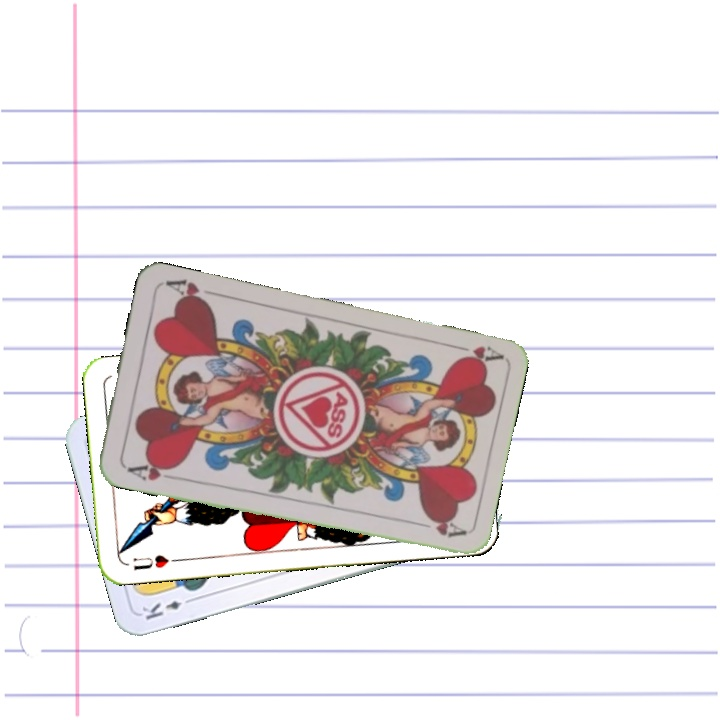EK: (138, 593, 197, 623)
HA: (444, 340, 503, 368), (121, 457, 180, 483)
HU: (129, 551, 182, 573)
